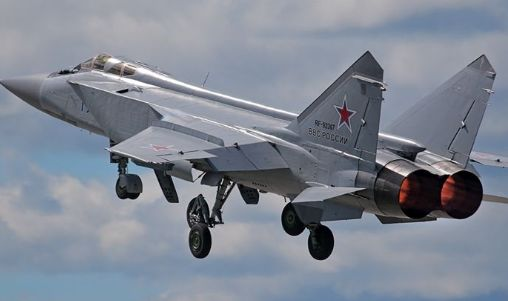airplane: (1, 47, 508, 260)
